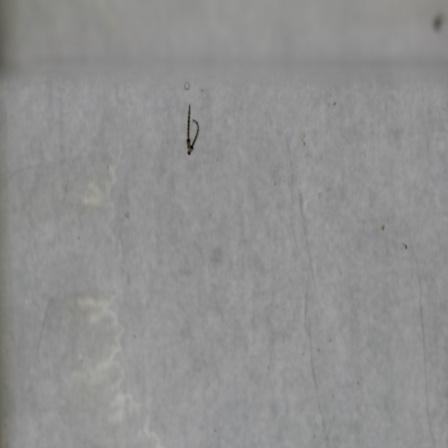Jentik-Nyamuk: (182, 103, 201, 158)
